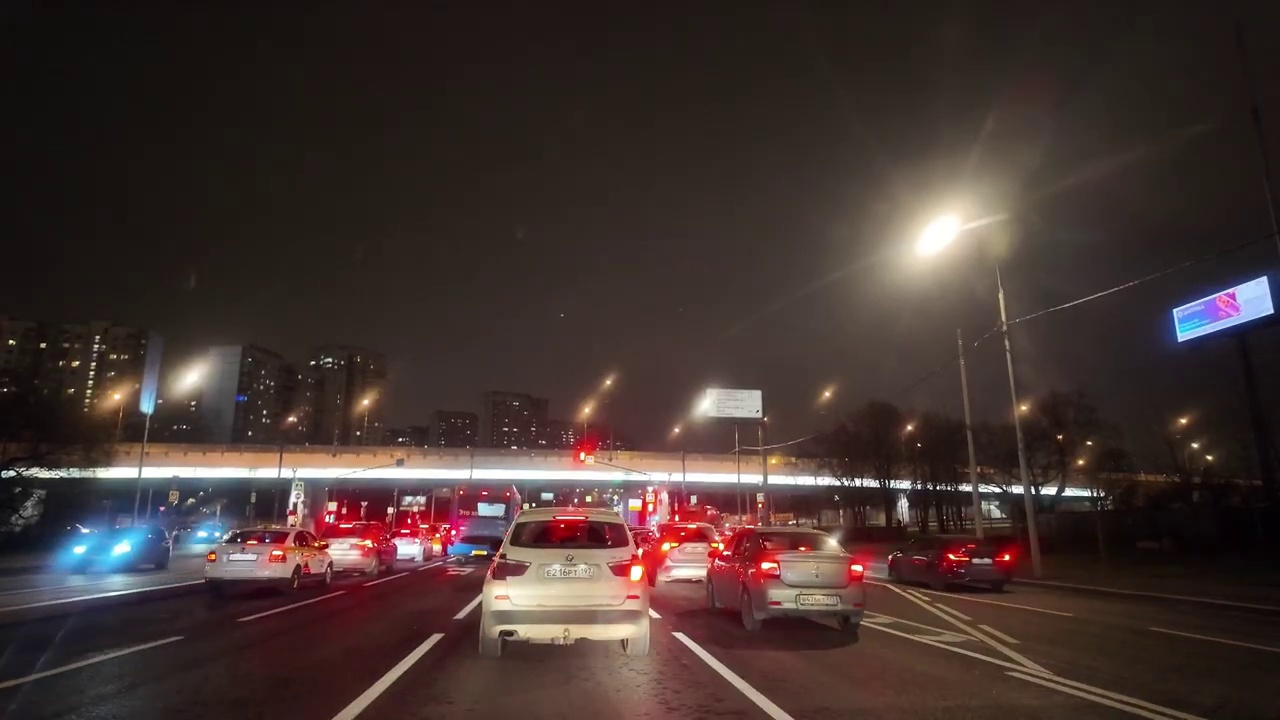acesa: (908, 201, 977, 268), (168, 354, 213, 402), (812, 378, 841, 410)
